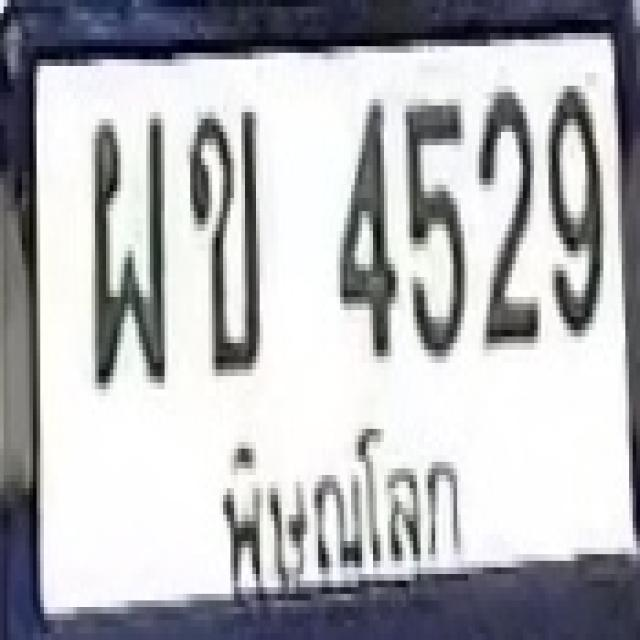2: (476, 82, 538, 340)
4: (336, 92, 395, 350)
5: (402, 96, 464, 353)
9: (545, 76, 600, 326)
A02: (187, 106, 260, 370)
A28: (88, 105, 164, 382)
PLK: (208, 415, 472, 591)
